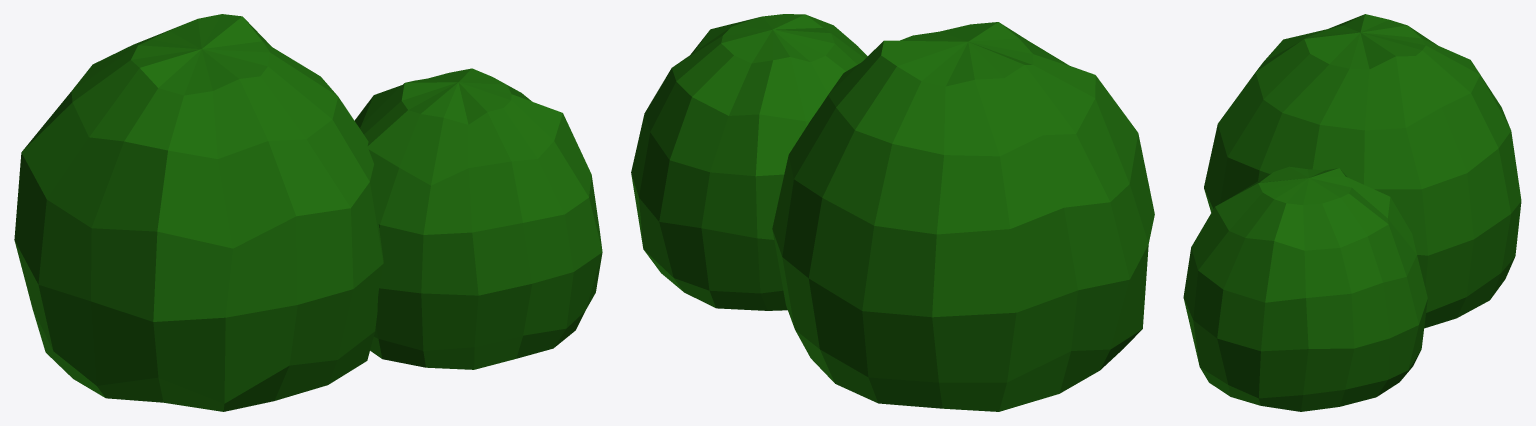
Rendered from Bushes.fbx.
3 views of the same model, side by side, from view 1: azimuth 30°, elevation 25°; view 2: azimuth 150°, elevation 25°; view 3: azimuth 270°, elevation 25° (orthographic). The views are drawn at different scales.
Parts seen in each view (by area): view 1: Bush004, Bush003; view 2: Bush004, Bush003; view 3: Bush004, Bush003.
Boxes of the visible parts, x1,y1,x2,y2 form: Bush004: [14, 14, 383, 411]; Bush003: [354, 68, 602, 369]; Bush004: [772, 22, 1154, 411]; Bush003: [631, 14, 867, 310]; Bush004: [1204, 14, 1521, 328]; Bush003: [1183, 166, 1427, 411].
Size of the model in its own units: 2130 by 1190 by 1473.
